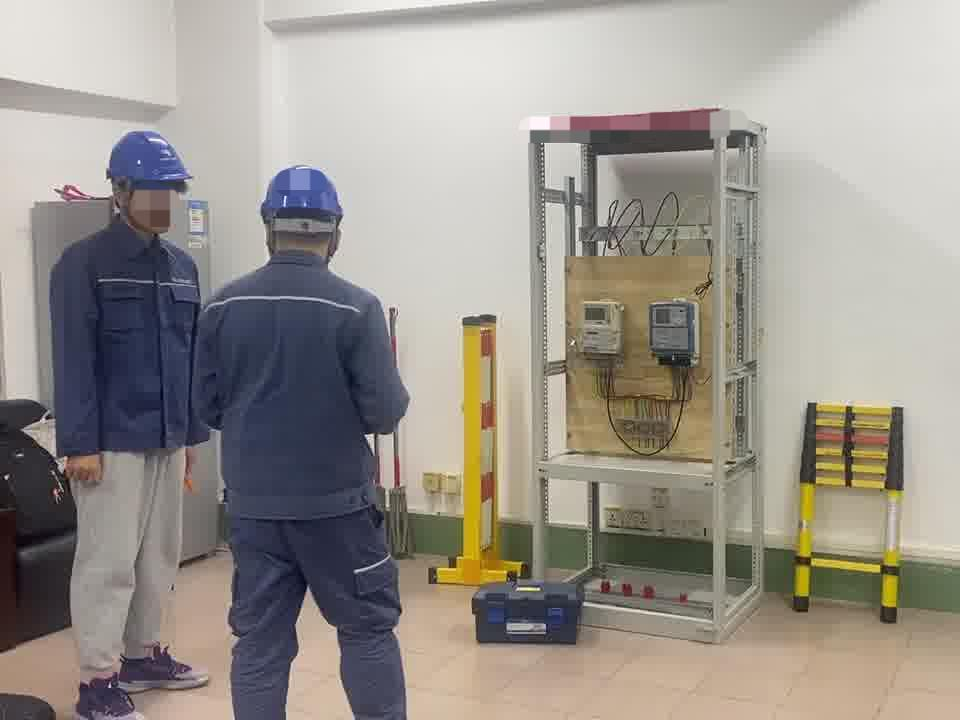halt: (108, 131, 195, 238), (261, 167, 349, 264)
inear: (111, 184, 142, 224)
